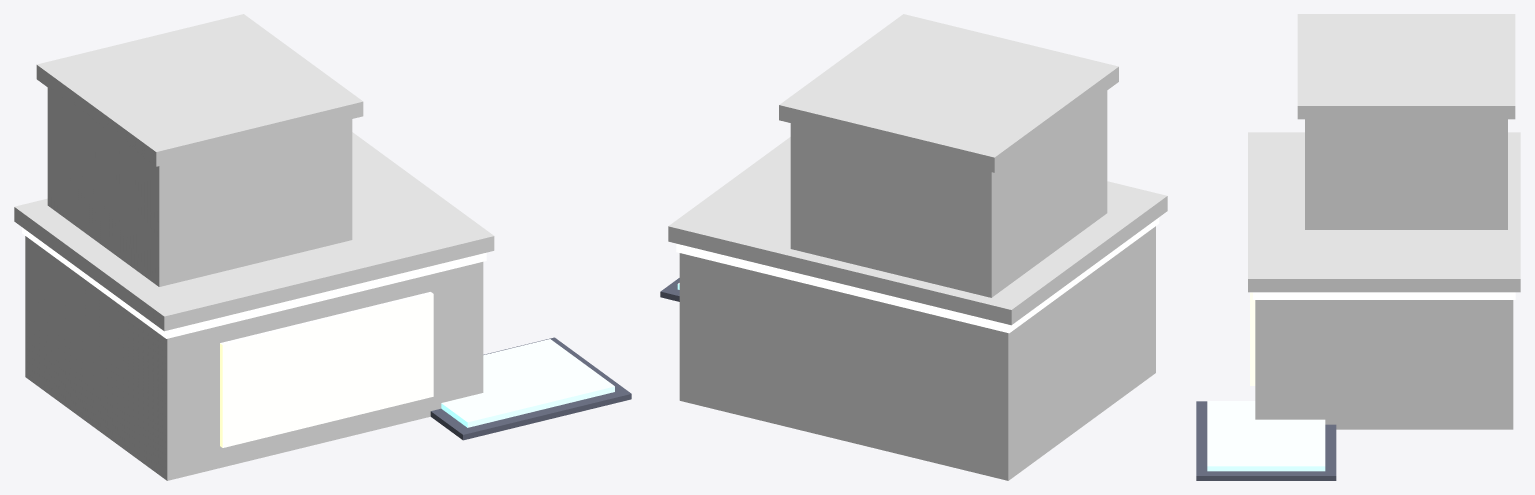
The model's file is home_villa_pool.glb.
3 views of the same model, side by side, from view 1: azimuth 30°, elevation 25°; view 2: azimuth 150°, elevation 25°; view 3: azimuth 270°, elevation 25° (orthographic). The views are drawn at different scales.
Parts seen in each view (by area): view 1: Body, Upper, RoofTop, RoofSlab, GlassWall, Pool, Eave, PoolEdge; view 2: Body, Upper, RoofTop, RoofSlab, Eave; view 3: Body, RoofSlab, RoofTop, Upper, Pool, PoolEdge, Eave, GlassWall.
Part boxes in pixels (<box>): Body: <box>25,236,483,480</box>; Upper: <box>47,87,352,286</box>; RoofTop: <box>36,14,363,166</box>; RoofSlab: <box>14,132,494,331</box>; GlassWall: <box>220,292,433,447</box>; Pool: <box>441,339,614,427</box>; Eave: <box>22,227,486,338</box>; PoolEdge: <box>430,337,631,440</box>; Body: <box>679,226,1155,480</box>; Upper: <box>790,91,1107,297</box>; RoofTop: <box>779,14,1118,172</box>; RoofSlab: <box>668,137,1167,325</box>; Eave: <box>676,217,1159,333</box>; Body: <box>1255,300,1513,429</box>; RoofSlab: <box>1248,132,1520,292</box>; RoofTop: <box>1297,14,1515,119</box>; Upper: <box>1305,119,1507,229</box>; Pool: <box>1207,401,1325,471</box>; PoolEdge: <box>1196,401,1336,480</box>; Eave: <box>1253,292,1515,299</box>; GlassWall: <box>1250,292,1255,385</box>.
Size of the model in its own units: 12.5 by 8.4 by 8.8.
